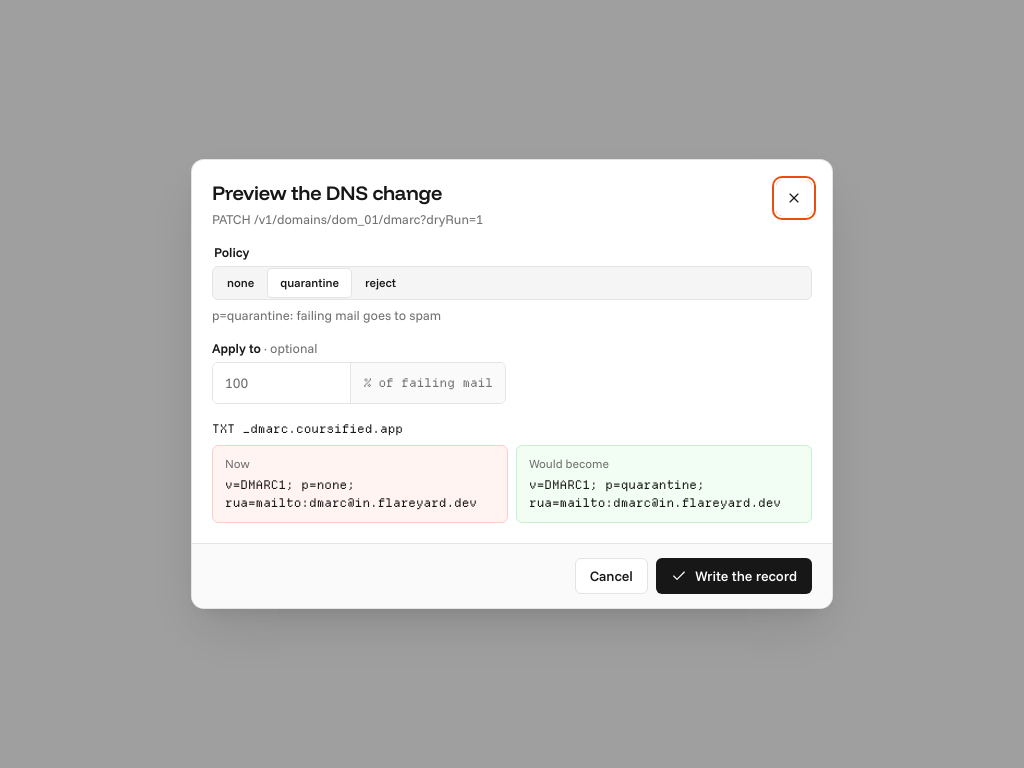
DMARC policy change › shows a 409 no_dns_token inline with the record to set by hand
What coordinates should you click on to do the following:
click the button "Write the record"
I would click on:
 (734, 576)
Its box is [656,558,812,594].
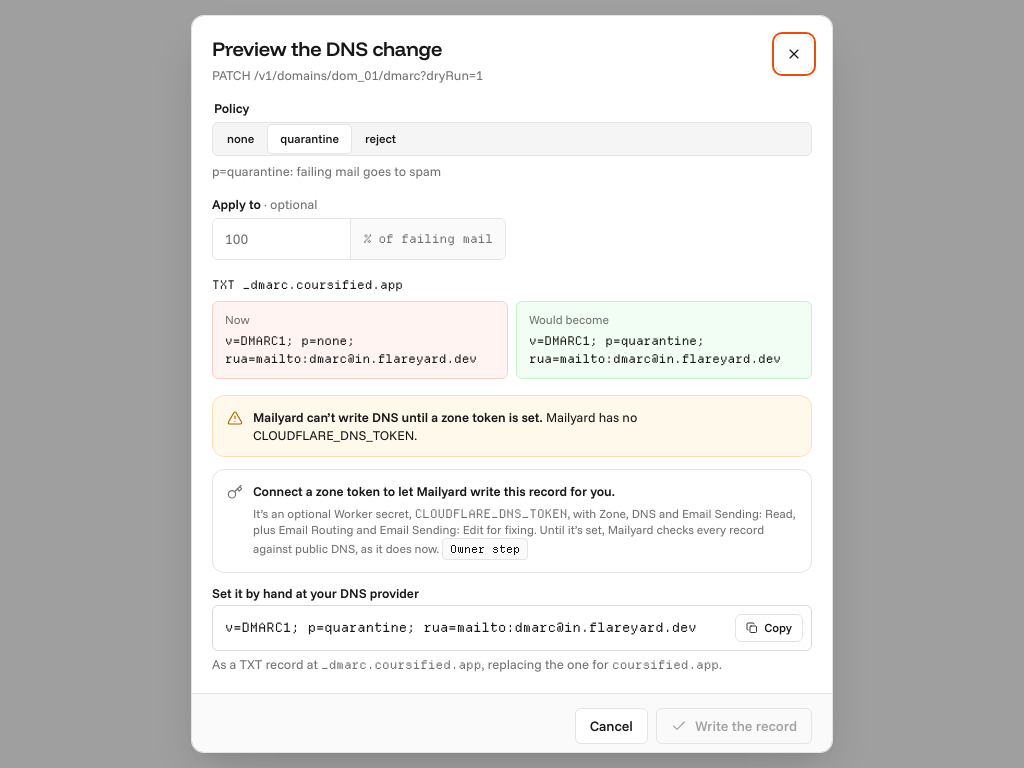
Check: the message shows "Mailyard can’t write DNS until a zone token is set.", box [253,409,543,425]
Check: the text "Set it by hand at your DNS provider" is shown, box [212,585,419,601]
